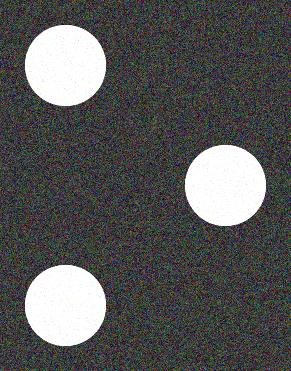O: (19, 19, 273, 351)
